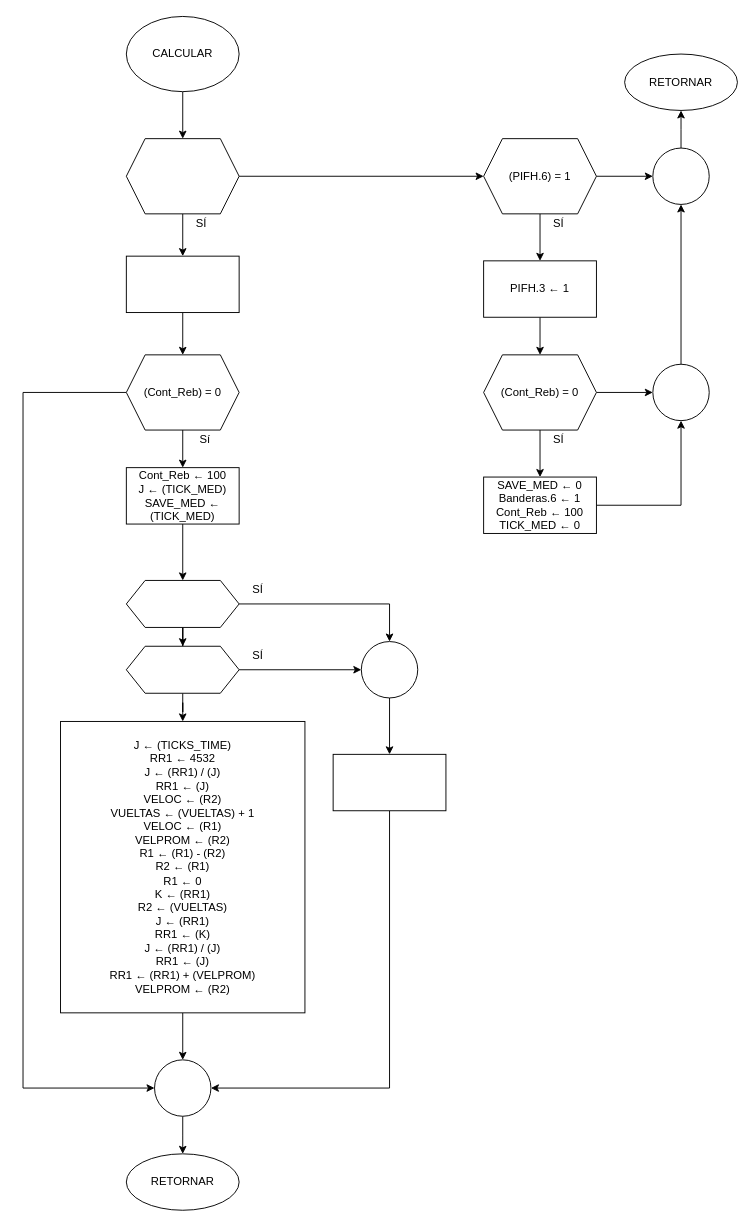
Some shapes in this 754 by 1227 pixel diagram are drawn without their labels. Here are the shapes that lost their labels. From the top down, the box of each, then its label:
(125, 138, 239, 214): (PIFH.7) = 1
(125, 255, 239, 313): (PIFH.0) = 1
(125, 580, 239, 627): (J) > 129
(125, 645, 239, 693): (J) < 48
(332, 753, 446, 811): VELOC ← $FF
